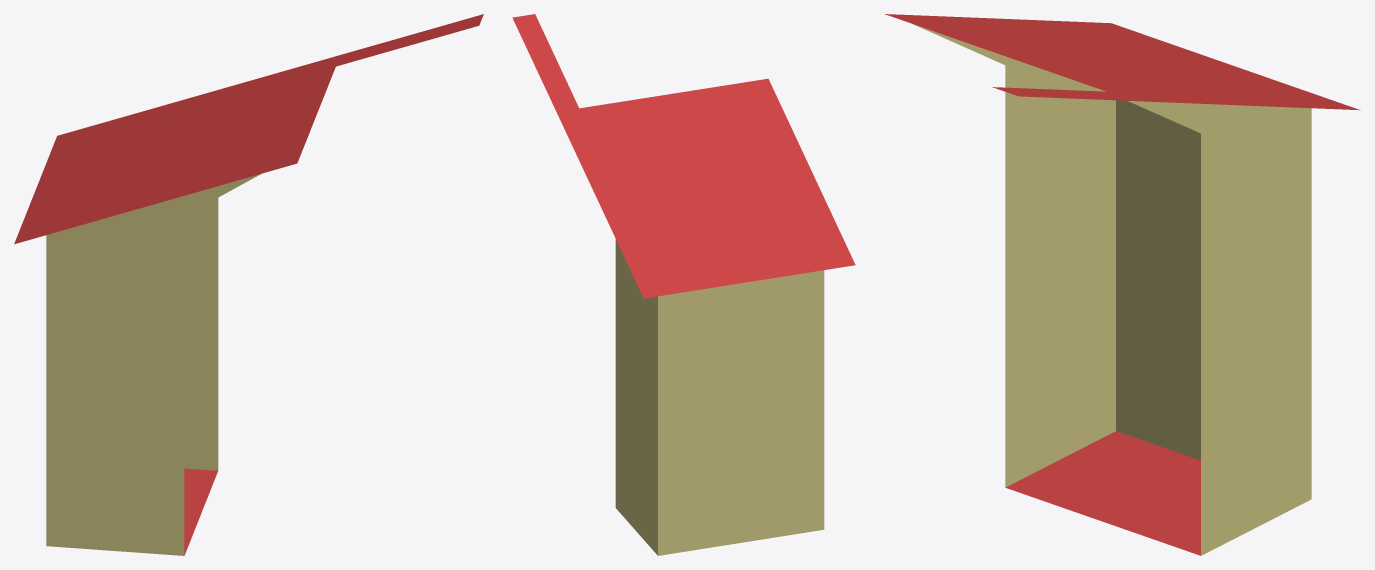
The picture shows the model from 3 angles, left to right: view 1: azimuth 30°, elevation 25°; view 2: azimuth 150°, elevation 25°; view 3: azimuth 270°, elevation 25°; orthographic projection. The views are drawn at different scales.
Bounding box in the file's own units: 8.89 × 6.83 × 9.1.
